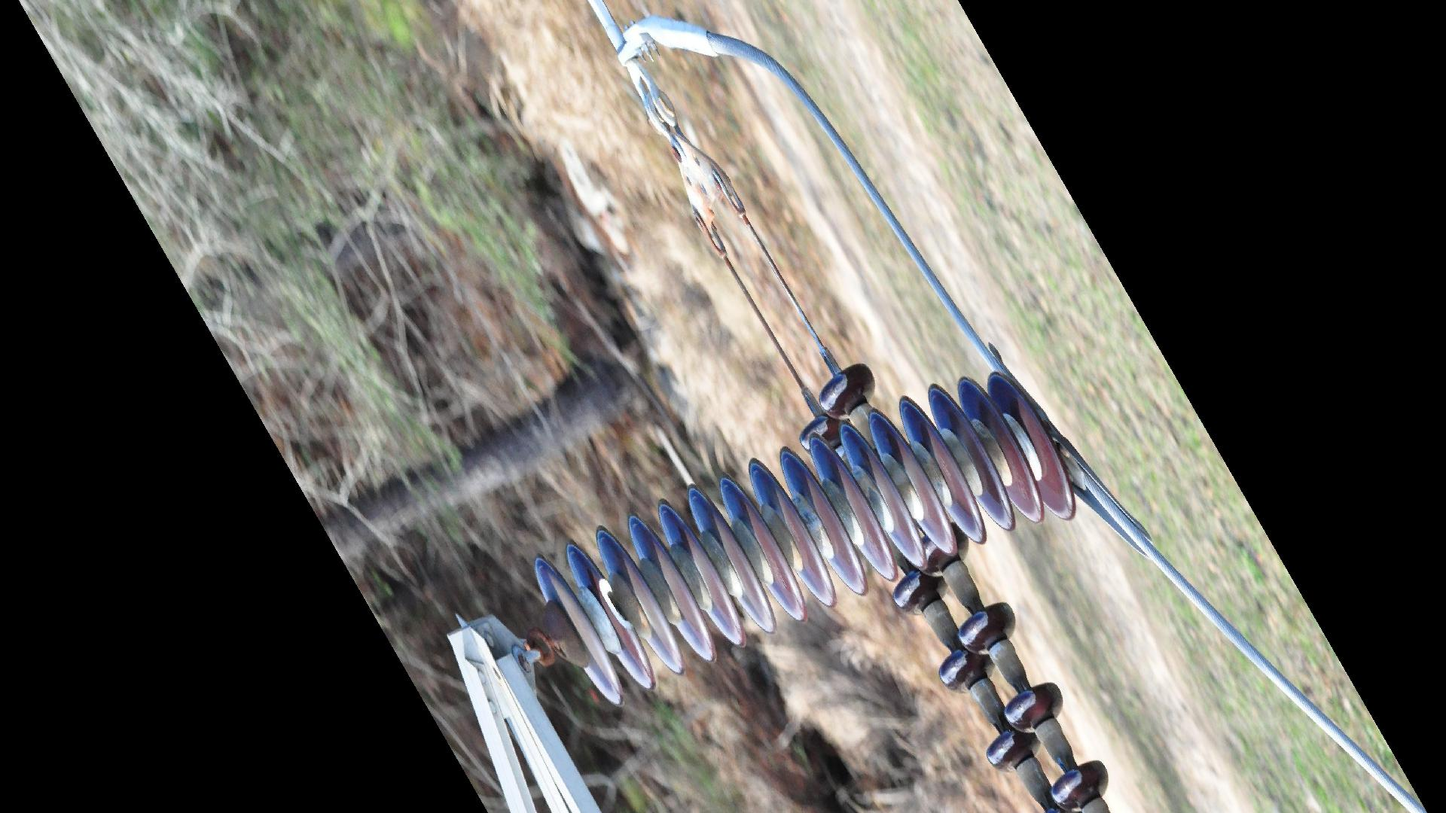insulator: (529, 365, 1084, 714), (889, 553, 1131, 813), (793, 355, 880, 455), (767, 276, 767, 278)
insulator_breakage: (587, 566, 642, 638)
